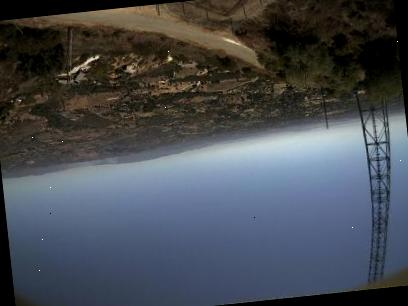smoke: (56, 156, 126, 181)
